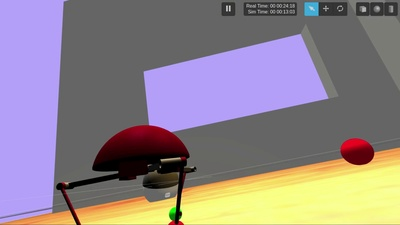mira_robot: (144, 170, 178, 202)
